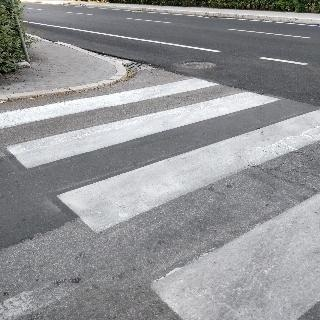road_crosswalk: (1, 99, 317, 318)
